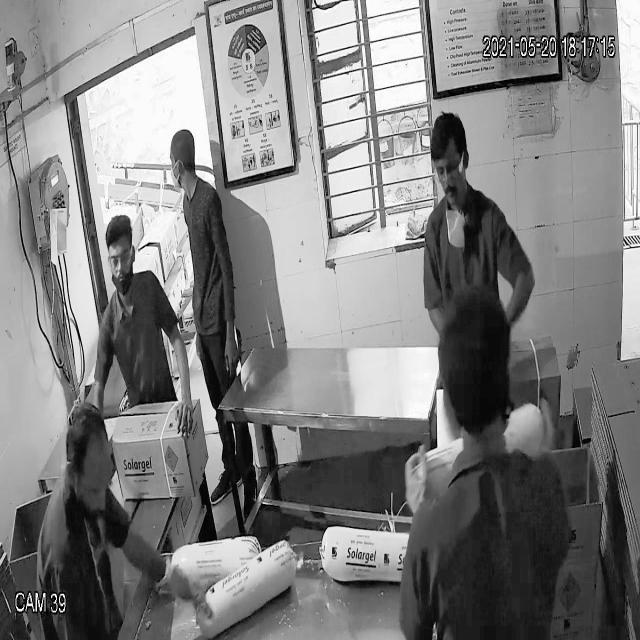glasses: (430, 156, 470, 192), (99, 242, 141, 274)
